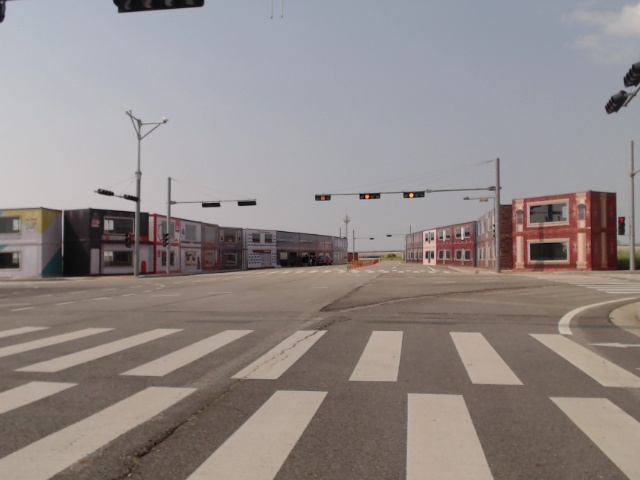orange_4: (401, 189, 426, 199), (357, 191, 382, 200)
